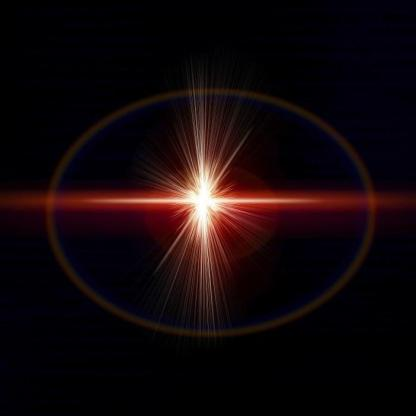other: (137, 122, 298, 270)
